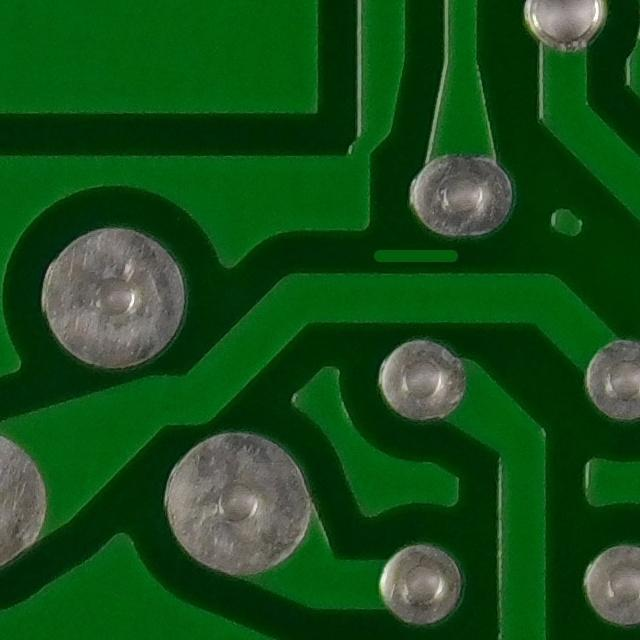spurious_copper: (367, 231, 470, 281)
